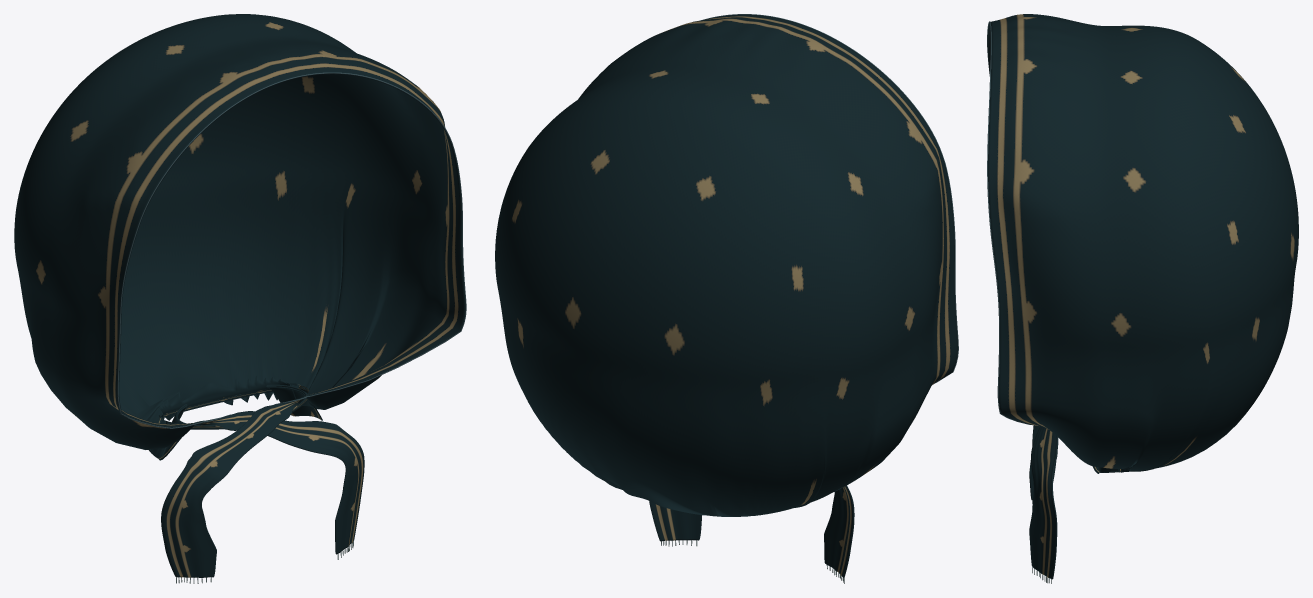
File: Masculine-curly-top-pashmina251-headgear.glb
The picture shows the model from 3 angles, left to right: view 1: azimuth 30°, elevation 25°; view 2: azimuth 150°, elevation 25°; view 3: azimuth 270°, elevation 25°; orthographic projection. The views are drawn at different scales.
Parts seen in each view (by area): view 1: 226 headgear / Headwear / continuous woven pashmina239.002, 226 headgear / Headwear / face edge239.002; view 2: 226 headgear / Headwear / continuous woven pashmina239.002, 226 headgear / Headwear / face edge239.002; view 3: 226 headgear / Headwear / continuous woven pashmina239.002, 226 headgear / Headwear / face edge239.002.
Boxes of the visible parts, box(x1,y1,x2,y2) form: 226 headgear / Headwear / continuous woven pashmina239.002: box(14, 14, 465, 577); 226 headgear / Headwear / face edge239.002: box(117, 72, 466, 428); 226 headgear / Headwear / continuous woven pashmina239.002: box(495, 14, 957, 577); 226 headgear / Headwear / face edge239.002: box(701, 14, 958, 384); 226 headgear / Headwear / continuous woven pashmina239.002: box(987, 14, 1298, 579); 226 headgear / Headwear / face edge239.002: box(987, 21, 1032, 425).
Size of the model in its own units: 1.07 by 1.41 by 0.7828.
3 materials, 1 textured.
